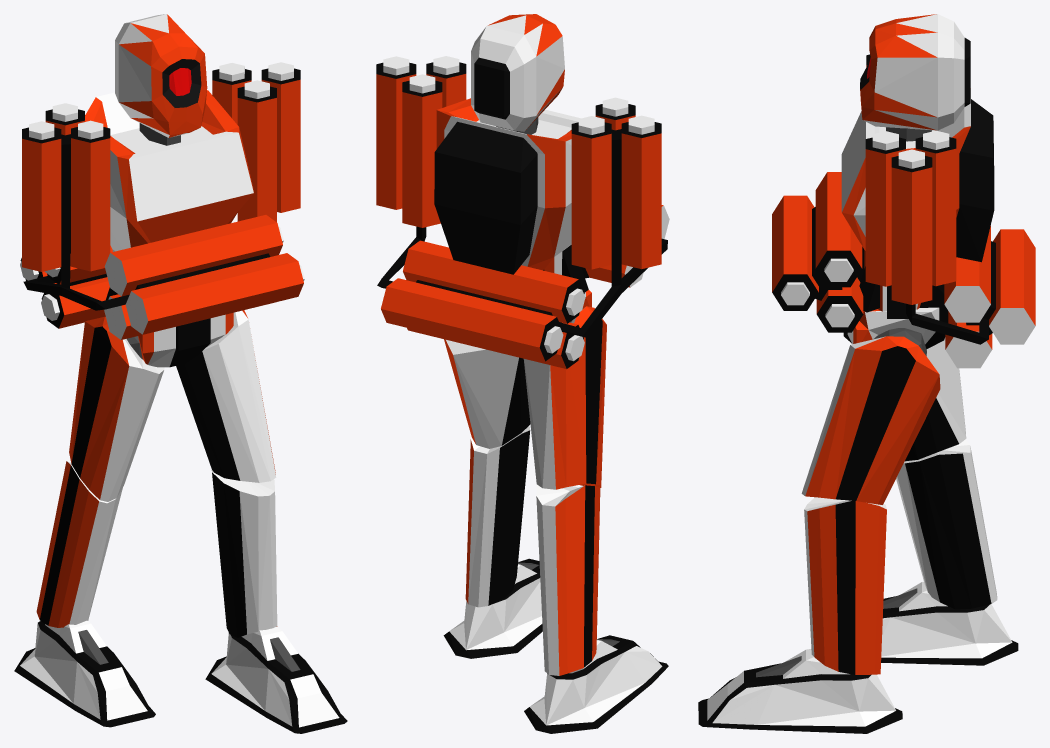
The model's file is noanim.obj.
3 views of the same model, side by side, from view 1: azimuth 30°, elevation 25°; view 2: azimuth 150°, elevation 25°; view 3: azimuth 270°, elevation 25° (orthographic). The views are drawn at different scales.
Visible parts, largest first — view 1: Cylinder.004_Cylinder.006, Chest_plate_Cube.004, R_Thigh_Cube.005, R_Thigh.002_Cube.027, Head_base.002_Cube.030, R_Shin.002_Cube.029, R_Foot_Cube, R_Foot.002_Cube.035, R_Shin_Cube.007, Pelvis_Cube.006; view 2: Cylinder.004_Cylinder.006, Chest_plate_Cube.004, R_Shin_Cube.007, R_Thigh_Cube.005, Head_base.002_Cube.030, R_Shin.002_Cube.029, R_Foot_Cube, R_Thigh.002_Cube.027, R_Foot.002_Cube.035; view 3: Cylinder.004_Cylinder.006, R_Thigh.002_Cube.027, R_Shin.002_Cube.029, R_Shin_Cube.007, R_Foot.002_Cube.035, Head_base.002_Cube.030, Chest_plate_Cube.004, R_Foot_Cube, R_Thigh_Cube.005, Pelvis_Cube.006.
Boxes of the visible parts, x1,y1,x2,y2 form: Cylinder.004_Cylinder.006: (20, 62, 304, 339); Chest_plate_Cube.004: (85, 90, 253, 300); R_Thigh_Cube.005: (69, 316, 164, 501); R_Thigh.002_Cube.027: (176, 310, 276, 482); Head_base.002_Cube.030: (115, 14, 207, 137); R_Shin.002_Cube.029: (211, 470, 277, 637); R_Foot_Cube: (14, 620, 155, 727); R_Foot.002_Cube.035: (205, 626, 347, 733); R_Shin_Cube.007: (36, 461, 122, 627); Pelvis_Cube.006: (138, 312, 233, 367); Cylinder.004_Cylinder.006: (376, 56, 669, 368); Chest_plate_Cube.004: (434, 98, 589, 292); R_Shin_Cube.007: (536, 484, 600, 675); R_Thigh_Cube.005: (523, 306, 606, 489); Head_base.002_Cube.030: (471, 14, 564, 131); R_Shin.002_Cube.029: (465, 426, 530, 607); R_Foot_Cube: (524, 635, 668, 733); R_Thigh.002_Cube.027: (444, 339, 530, 448); R_Foot.002_Cube.035: (443, 558, 542, 658); Cylinder.004_Cylinder.006: (772, 54, 1035, 368); R_Thigh.002_Cube.027: (801, 336, 940, 504); R_Shin.002_Cube.029: (804, 497, 886, 674); R_Shin_Cube.007: (896, 439, 997, 609); R_Foot.002_Cube.035: (698, 649, 902, 733); Head_base.002_Cube.030: (860, 14, 970, 130); Chest_plate_Cube.004: (841, 89, 994, 318); R_Foot_Cube: (881, 581, 1018, 665); R_Thigh_Cube.005: (905, 337, 966, 461); Pelvis_Cube.006: (843, 284, 948, 349).
Bounding box in the file's own units: 1.38 × 3.03 × 1.4.
